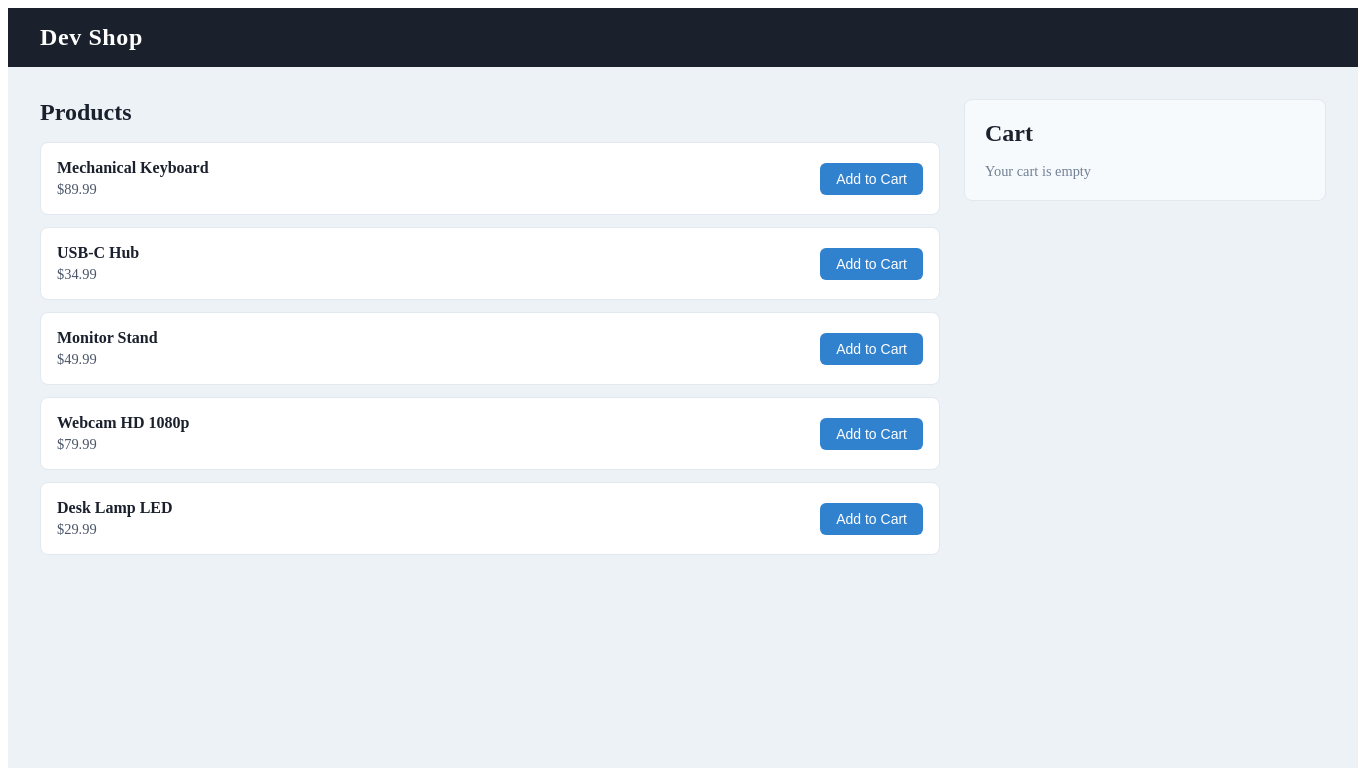
Add to cart › shows correct total when multiple different products are added
This screenshot has width=1366, height=768.
What coordinates should you click on to do the following:
click the button "Add to Cart" in the row of "Mechanical Keyboard"
I would click on:
 (872, 178)
Its box is [820,162,923,194].
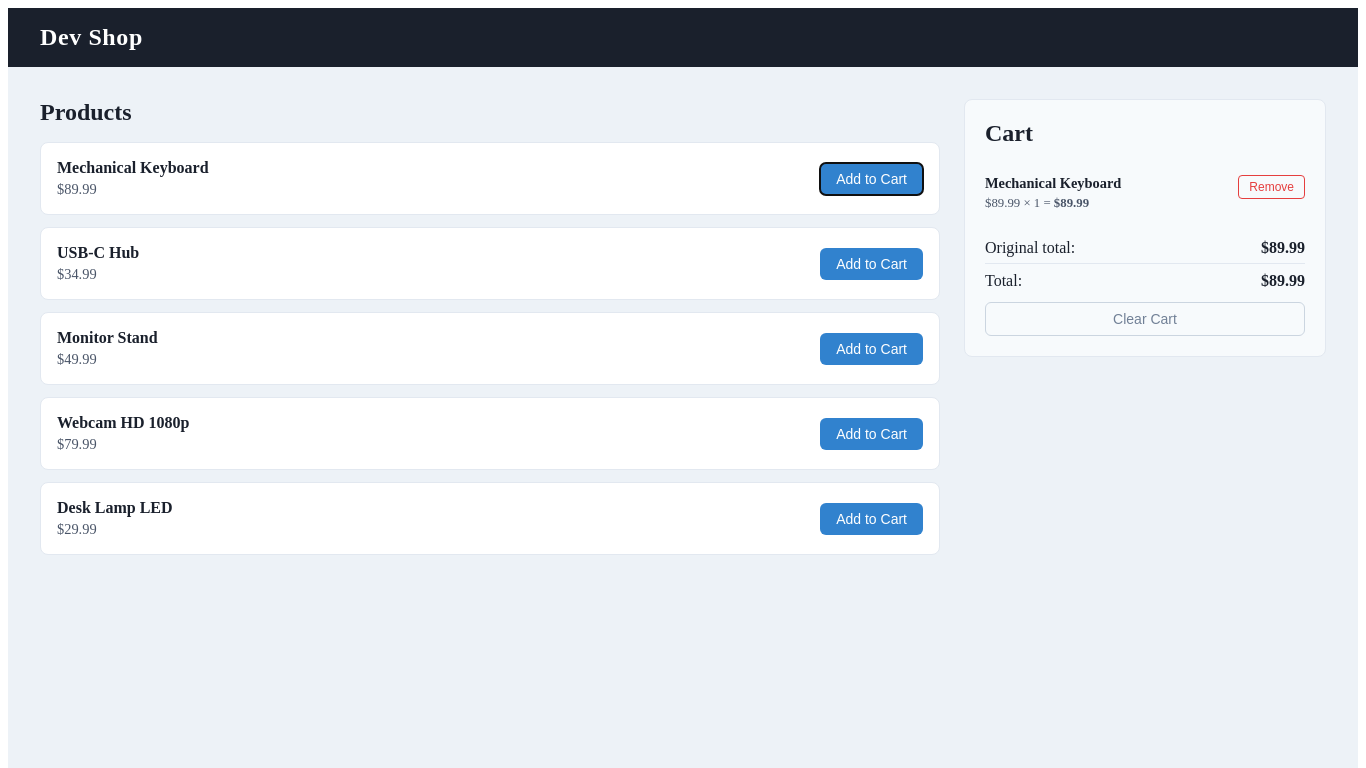
What coordinates should you click on to do the following:
click the button "Add to Cart" in the row of "USB-C Hub"
I would click on:
 (872, 264)
Its box is [820,248,923,280].
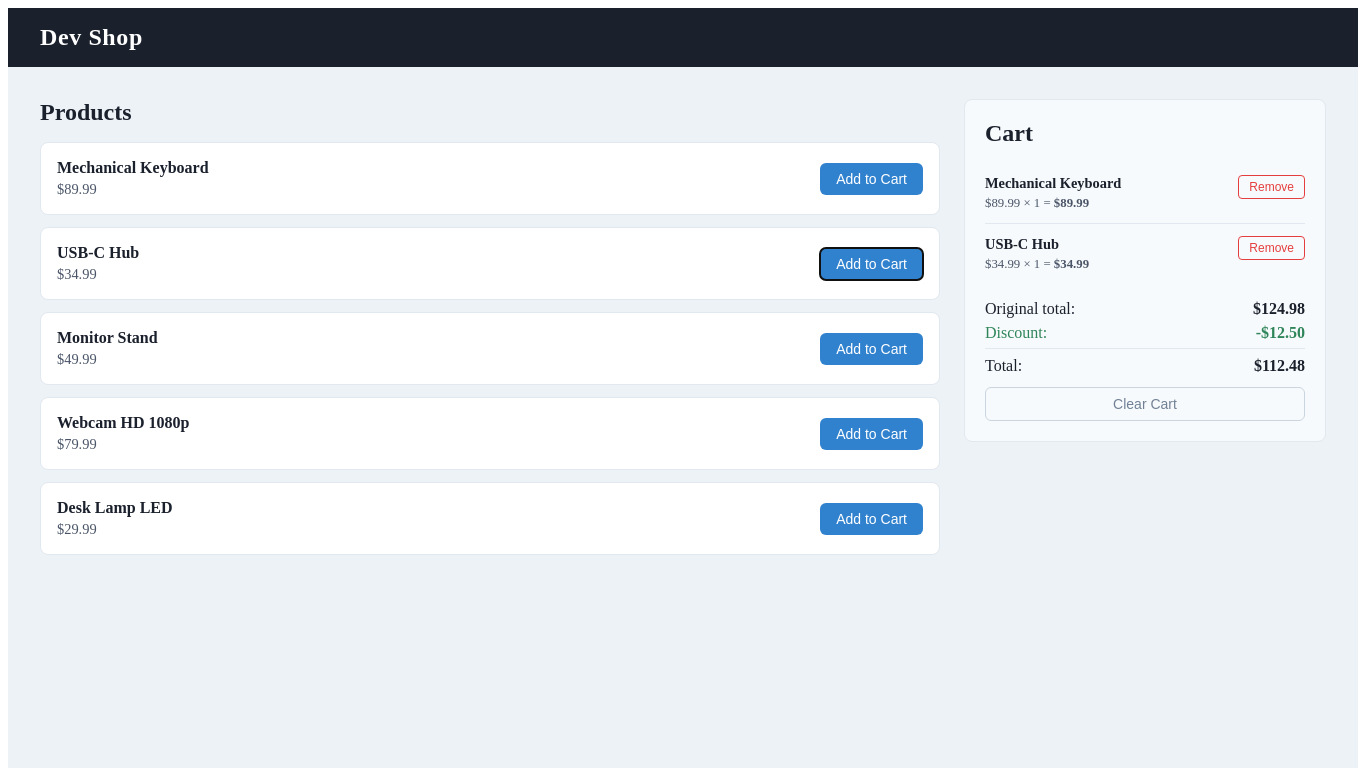
Now the text "$124.98" is shown, box [1253,300,1305,318]
